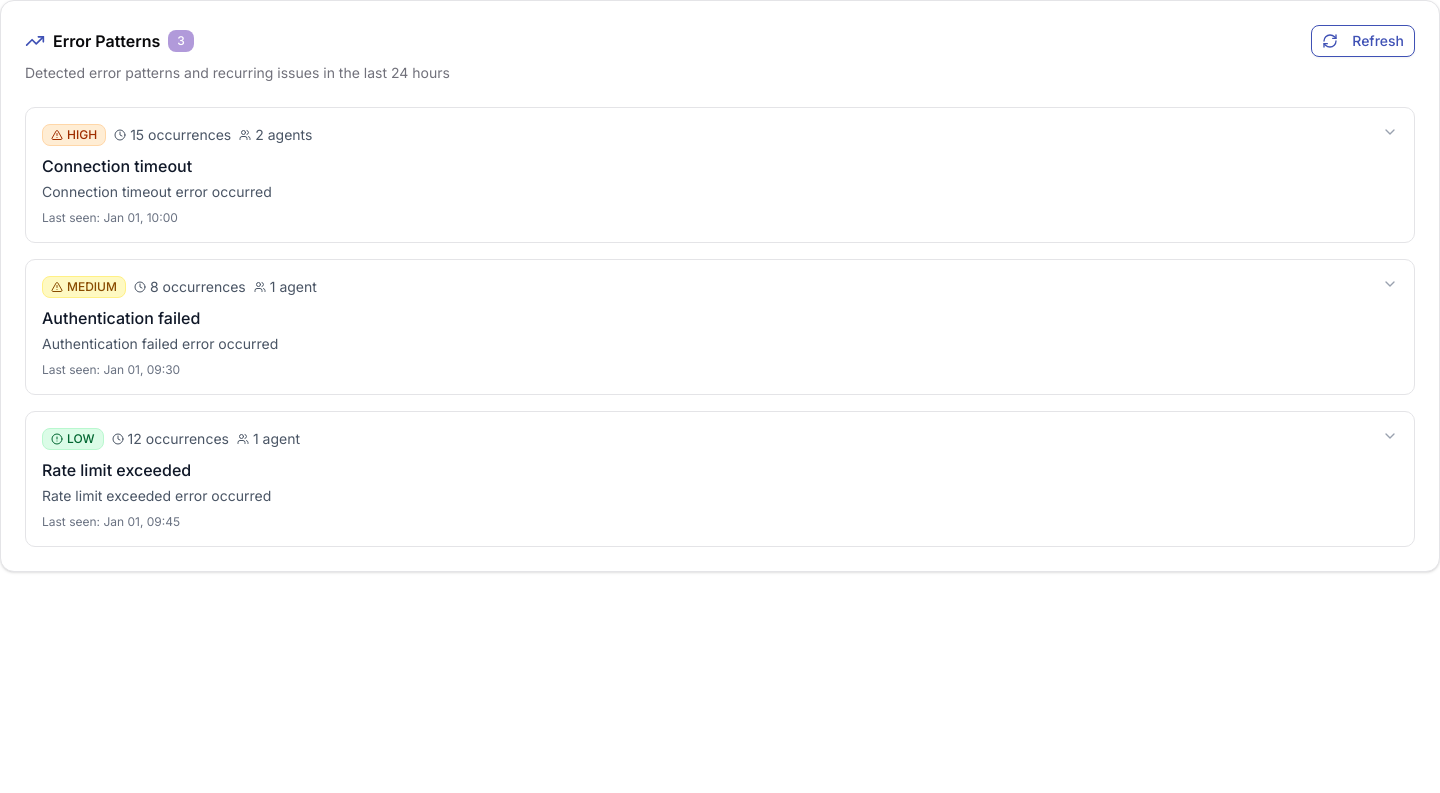
Test case: ErrorPatterns › displays error resolution suggestions
Click to expand and see suggestions
Click the heading "Connection timeout".
click(117, 166)  # box left=42, top=156, right=192, bottom=176
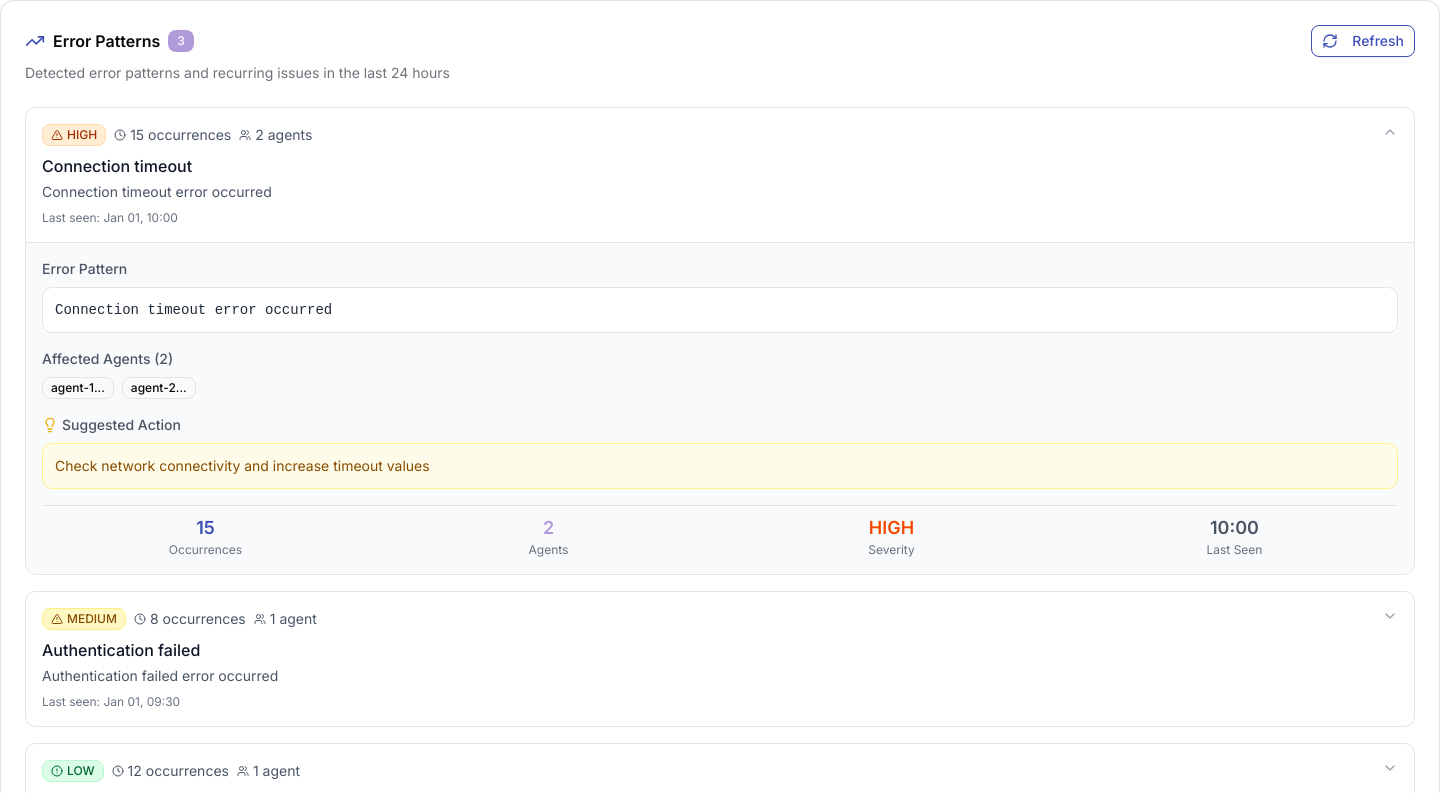
Expected: the text "Suggested Action" is shown, left=42, top=416, right=181, bottom=433
Expected: the text "Check network connectivity and increase timeout values" is shown, left=55, top=457, right=430, bottom=474
